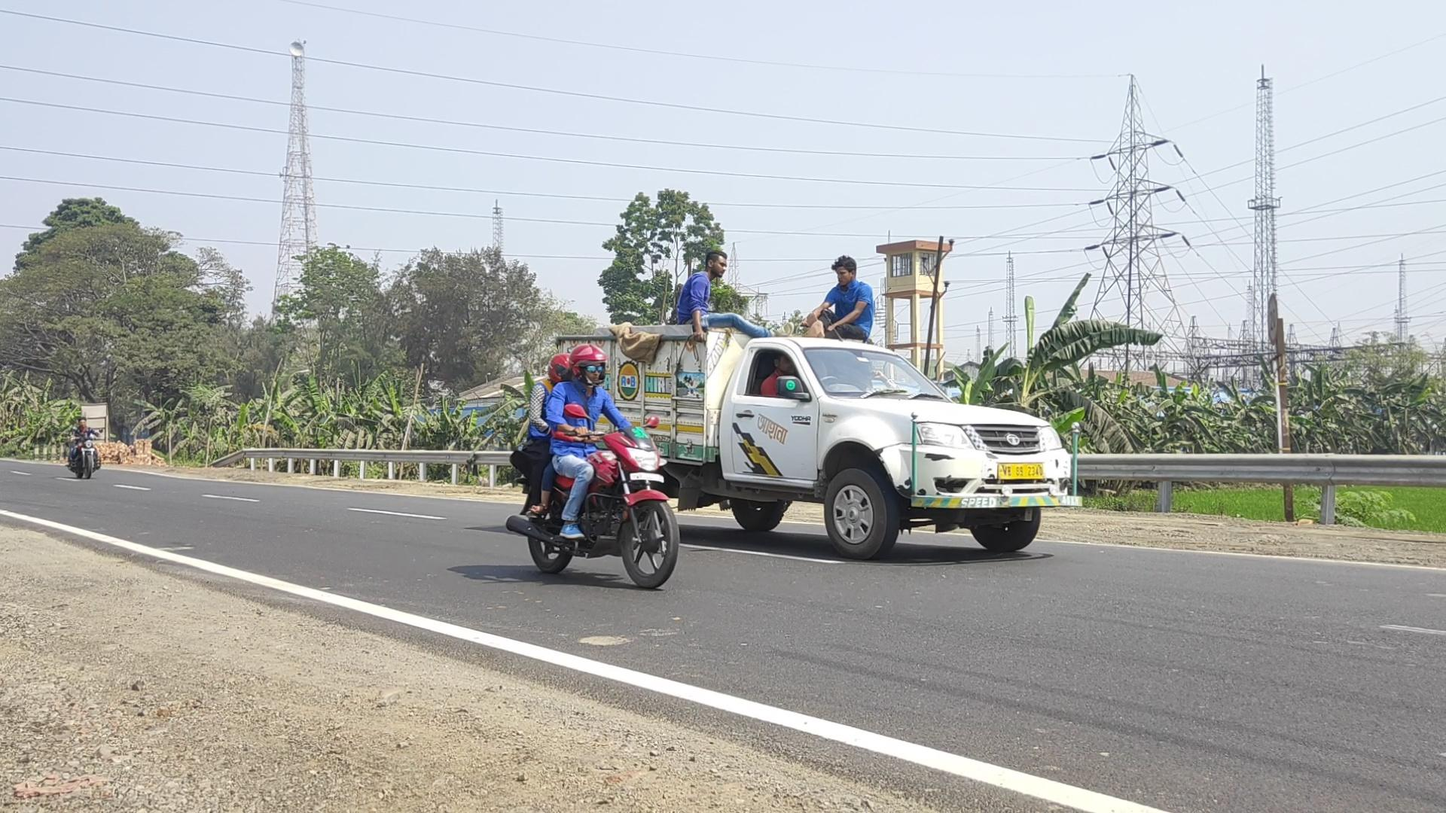bike: (506, 345, 679, 589), (66, 417, 103, 480)
van: (555, 251, 1083, 561)
